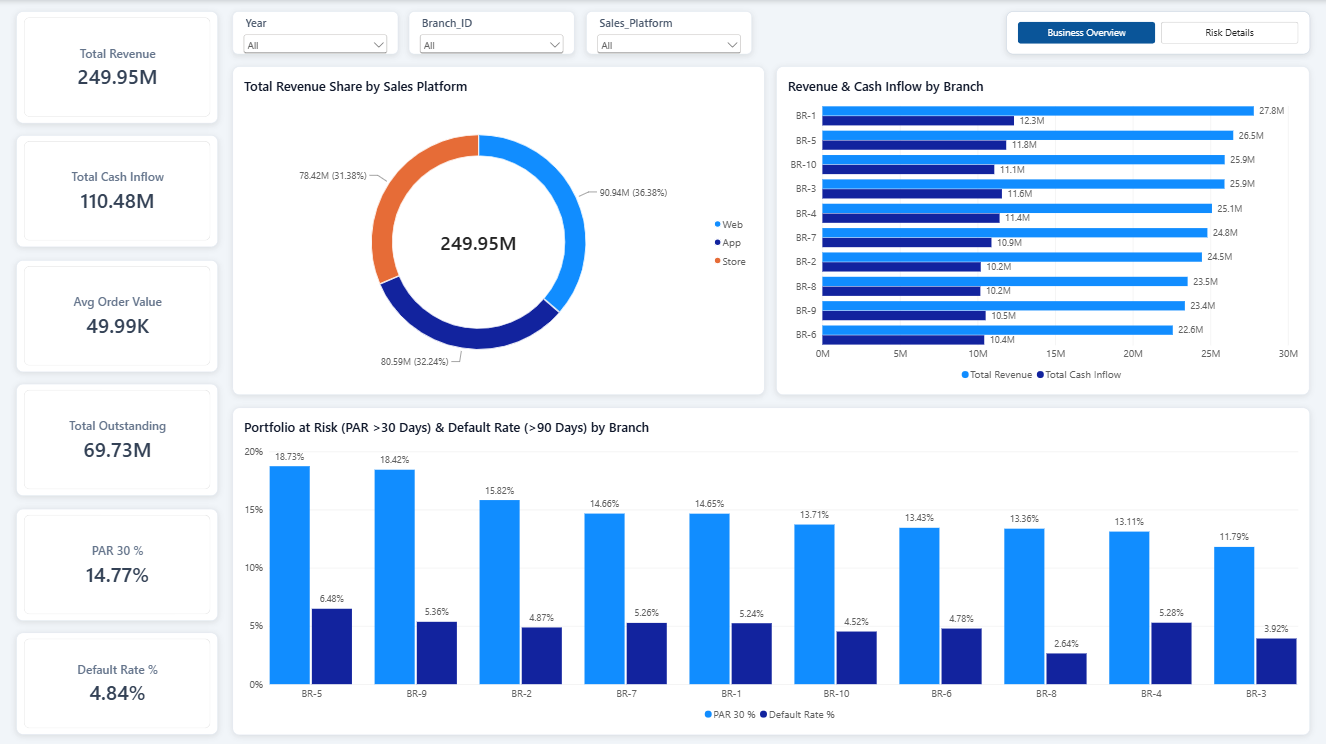

This screenshot's page, from the dashboard's own definition file:
{"tool":"powerbi","page":{"name":"Business Overview","canvas":[1920,1080],"ordinal":0},"visuals":[{"type":"cardVisual","fields":{"Data":["Sales.Total Cash Inflow"]},"box":[9,179.4,314.9,182.8],"z":0},{"type":"cardVisual","fields":{"Data":["Sales.Total Outstanding"]},"box":[9,361.6,314.9,180],"z":1000},{"type":"cardVisual","fields":{"Data":["Sales.Avg Order Value"]},"box":[9,541,314.9,181],"z":2000},{"type":"cardVisual","fields":{"Data":["Sales.Total Revenue"]},"box":[9,0,314.9,180],"z":3000},{"type":"cardVisual","fields":{"Data":["Sales.PAR 30 %"]},"box":[9,721.4,314.9,179.2],"z":4000},{"type":"cardVisual","fields":{"Data":["Sales.Default Rate %"]},"box":[9,900,314.9,180],"z":5000},{"type":"pieChart","title":"Total Revenue by Sales Platform","fields":{"Category":["Agents.Sales_Platform"],"Y":["Sales.Total Revenue"]},"box":[336.6,72.4,780,559.2],"z":6000},{"type":"clusteredBarChart","title":"Revenue & Cash Inflow by Branch","fields":{"Category":["Branches.Branch_ID"],"Y":["Sales.Total Revenue","Sales.Total Cash Inflow"]},"box":[1129.2,72.4,780,559.2],"z":7000},{"type":"clusteredColumnChart","title":"PAR >30 Days & Default Rate by Branch","fields":{"Category":["Branches.Branch_ID"],"Y":["Sales.PAR 30 %","Sales.Default Rate %"]},"box":[336.6,644.2,1572.6,436.1],"z":8000},{"type":"slicer","fields":{"Values":["Sales.Order_Date.Variation.Date Hierarchy.Year"]},"box":[336.6,0,220,65.1],"z":9000},{"type":"slicer","fields":{"Values":["Branches.Branch_ID"]},"box":[616.2,0,220,65.1],"z":10000},{"type":"slicer","fields":{"Values":["Agents.Sales_Platform"]},"box":[895.8,0,220,65.1],"z":11000}]}

Visuals, with their boxes in screenshot pixels (x1, y1, x2, y2), scaled from the page's 1920x1080 canvas onto the 1326x744 screenshot:
cardVisual - Sales.Total Cash Inflow: [x1=6, y1=124, x2=224, y2=250]
cardVisual - Sales.Total Outstanding: [x1=6, y1=249, x2=224, y2=373]
cardVisual - Sales.Avg Order Value: [x1=6, y1=373, x2=224, y2=497]
cardVisual - Sales.Total Revenue: [x1=6, y1=0, x2=224, y2=124]
cardVisual - Sales.PAR 30 %: [x1=6, y1=497, x2=224, y2=620]
cardVisual - Sales.Default Rate %: [x1=6, y1=620, x2=224, y2=743]
"Total Revenue by Sales Platform" pieChart: [x1=232, y1=50, x2=771, y2=435]
"Revenue & Cash Inflow by Branch" clusteredBarChart: [x1=780, y1=50, x2=1319, y2=435]
"PAR >30 Days & Default Rate by Branch" clusteredColumnChart: [x1=232, y1=444, x2=1319, y2=743]
slicer - Sales.Order_Date.Variation.Date Hierarchy.Year: [x1=232, y1=0, x2=384, y2=45]
slicer - Branches.Branch_ID: [x1=426, y1=0, x2=578, y2=45]
slicer - Agents.Sales_Platform: [x1=619, y1=0, x2=771, y2=45]
